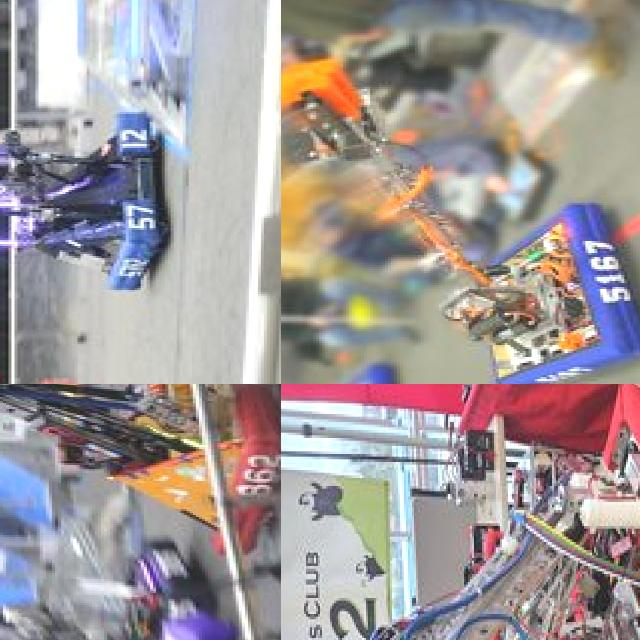FRC-Robots: (281, 48, 640, 384), (336, 384, 640, 640), (0, 99, 208, 293), (0, 384, 281, 487), (19, 537, 201, 640), (327, 353, 426, 384)
